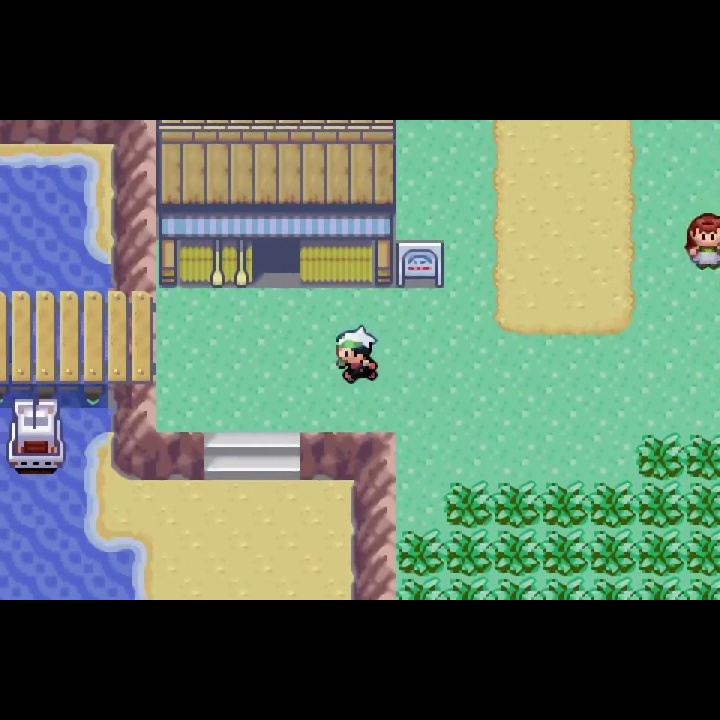grass: (443, 527, 493, 579), (588, 525, 637, 577), (588, 477, 637, 528), (636, 527, 685, 578), (397, 527, 445, 578), (540, 527, 588, 578), (540, 478, 588, 528), (637, 479, 685, 529), (443, 480, 494, 527), (492, 479, 540, 528), (635, 433, 683, 480), (494, 527, 539, 577), (685, 479, 720, 529), (683, 433, 720, 479), (685, 527, 720, 575), (492, 574, 542, 600), (540, 573, 589, 599), (446, 575, 494, 600), (637, 576, 685, 600), (591, 576, 638, 600), (397, 578, 446, 600), (685, 576, 720, 599)
house: (154, 120, 398, 290)
npc: (331, 325, 381, 387), (682, 210, 720, 274)
